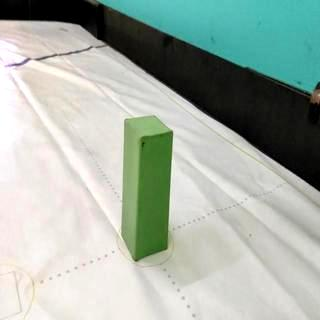greenbox: (122, 113, 174, 260)
